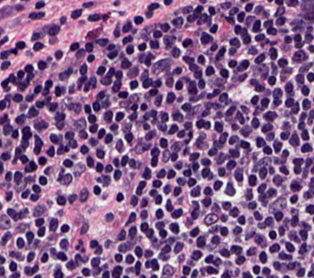nucleus: (153, 59, 169, 72), (59, 68, 71, 79), (48, 25, 59, 35), (164, 36, 175, 46), (69, 103, 80, 113), (264, 111, 276, 120), (35, 121, 47, 130), (29, 12, 44, 19), (188, 81, 196, 94), (201, 33, 211, 43), (128, 67, 138, 77), (27, 107, 37, 117), (75, 118, 85, 128), (216, 47, 225, 58), (78, 76, 86, 88), (22, 127, 30, 139), (71, 9, 81, 18), (172, 17, 182, 26), (273, 88, 282, 98), (145, 130, 155, 139), (194, 6, 202, 17), (252, 20, 260, 31), (112, 80, 120, 91), (104, 111, 112, 122), (144, 111, 155, 119), (87, 30, 99, 37), (230, 38, 239, 47), (255, 54, 264, 63), (121, 59, 130, 68), (226, 106, 235, 115), (173, 112, 182, 121), (16, 114, 25, 123), (198, 14, 206, 24), (183, 56, 193, 64), (262, 124, 272, 132), (241, 126, 249, 136), (237, 112, 244, 123), (275, 7, 284, 15), (276, 17, 285, 25), (107, 68, 115, 77), (143, 78, 151, 87), (55, 113, 64, 121), (169, 124, 177, 133), (3, 125, 11, 134), (219, 133, 227, 142), (172, 143, 180, 152), (148, 3, 158, 10), (97, 38, 107, 45), (172, 47, 179, 57), (167, 92, 174, 102), (251, 118, 258, 128), (35, 136, 42, 146), (274, 142, 281, 152), (88, 14, 99, 20), (270, 48, 276, 59), (116, 140, 122, 151), (134, 16, 142, 24), (264, 20, 272, 28), (161, 23, 169, 31), (150, 40, 158, 48), (220, 69, 228, 77), (219, 93, 227, 101), (182, 103, 190, 111), (196, 120, 204, 128), (229, 136, 237, 144), (256, 138, 264, 146), (183, 6, 192, 13), (267, 27, 276, 34), (255, 34, 264, 41), (122, 36, 131, 43), (33, 43, 42, 50), (206, 66, 213, 75), (101, 77, 110, 84), (13, 94, 22, 101), (261, 98, 268, 107), (215, 122, 222, 131), (50, 134, 57, 143), (160, 138, 167, 147), (57, 145, 64, 154), (80, 64, 86, 74), (89, 77, 95, 87), (55, 86, 61, 96), (155, 95, 161, 105), (36, 1, 44, 8), (245, 3, 252, 11), (229, 7, 237, 14), (123, 23, 130, 31), (234, 25, 241, 33), (243, 35, 250, 43), (183, 39, 191, 46), (16, 41, 24, 48), (70, 43, 78, 50), (126, 45, 133, 53), (76, 50, 84, 57), (108, 51, 116, 58), (241, 60, 248, 68), (38, 61, 45, 69), (1, 62, 9, 69), (25, 65, 32, 73), (97, 66, 104, 74), (115, 71, 122, 79), (9, 74, 16, 82), (268, 76, 275, 84), (1, 79, 9, 86), (45, 80, 52, 88), (130, 80, 137, 88), (175, 81, 182, 89), (34, 85, 41, 93), (251, 96, 258, 104), (93, 102, 100, 110), (49, 103, 57, 110), (116, 112, 123, 120), (129, 112, 136, 120), (161, 113, 168, 121), (56, 121, 63, 129), (79, 131, 87, 138), (65, 132, 73, 139), (125, 133, 132, 141), (105, 134, 112, 142), (69, 139, 76, 147), (241, 141, 249, 148), (238, 12, 244, 21), (198, 79, 204, 88), (1, 115, 7, 124), (98, 129, 104, 138), (0, 100, 5, 110), (255, 6, 262, 13), (210, 25, 217, 32), (138, 43, 145, 50), (249, 47, 256, 54), (1, 51, 8, 58), (55, 51, 62, 58), (229, 60, 236, 67), (190, 64, 197, 71), (150, 88, 157, 95), (241, 105, 248, 112), (88, 115, 95, 122), (123, 124, 130, 131), (90, 125, 97, 132), (177, 130, 184, 137), (266, 133, 273, 140), (89, 138, 96, 145), (222, 2, 230, 8), (187, 15, 195, 21), (247, 17, 253, 25), (153, 31, 161, 37), (32, 33, 40, 39), (86, 43, 92, 51), (198, 55, 204, 63), (195, 70, 201, 78), (166, 78, 172, 86), (153, 80, 161, 86), (255, 85, 263, 91), (83, 2, 92, 7), (84, 82, 89, 91), (226, 17, 233, 23), (1, 37, 7, 44), (229, 47, 235, 54), (174, 67, 181, 73), (97, 92, 104, 98), (26, 95, 33, 101), (36, 101, 43, 107), (131, 103, 137, 110), (84, 105, 90, 112), (184, 122, 191, 128), (110, 124, 117, 130), (159, 124, 166, 130), (119, 92, 127, 97), (22, 140, 27, 148), (87, 55, 93, 61), (240, 74, 246, 80), (213, 89, 219, 95), (274, 99, 280, 105), (204, 122, 210, 128), (143, 123, 149, 129), (232, 124, 238, 130), (209, 7, 214, 14), (114, 29, 119, 36), (107, 44, 114, 49), (18, 70, 23, 77), (141, 103, 146, 110), (202, 110, 209, 115), (12, 130, 17, 137), (211, 44, 216, 50), (19, 84, 25, 89), (43, 88, 48, 94), (275, 0, 282, 4), (242, 29, 246, 36), (164, 0, 170, 4), (61, 17, 65, 23), (207, 94, 213, 98), (104, 101, 108, 107), (147, 12, 151, 17), (103, 15, 107, 20), (11, 49, 16, 53), (251, 80, 256, 84), (213, 104, 219, 107), (28, 74, 32, 78), (114, 1, 119, 4), (70, 86, 72, 92)
